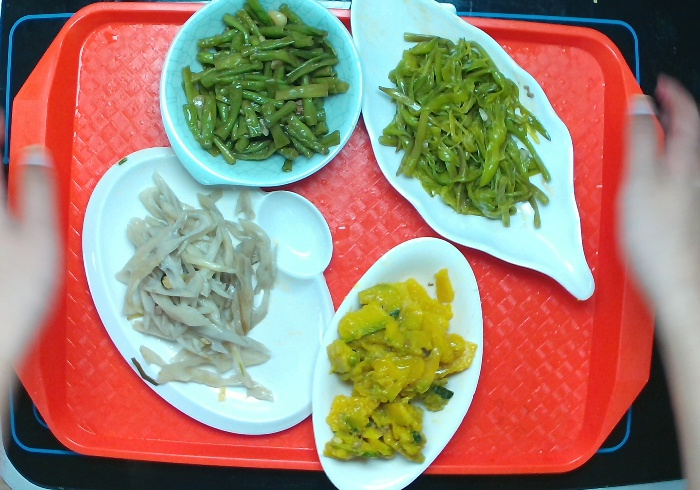RJxy-Bai_Se_Tuo_Yuan: (306, 231, 488, 488)
RJxy-Shu_Ye_Pan: (346, 1, 599, 308)
RJxy-Xiao_Jiao_Yuan_Wan: (159, 2, 369, 197)
RJxy-Zhan_Liao_Pan: (80, 143, 342, 445)
